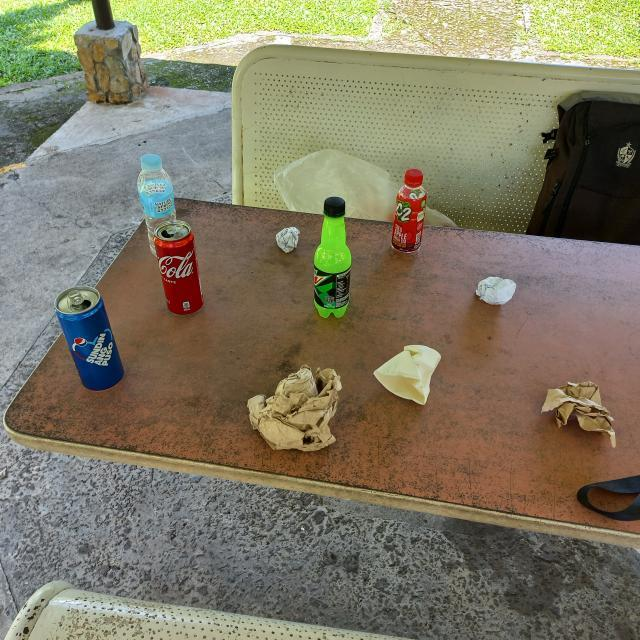recyclable waste: (237, 361, 351, 458), (51, 282, 130, 396), (537, 374, 625, 454), (148, 212, 210, 322), (308, 192, 356, 322), (132, 149, 184, 263), (366, 338, 446, 411), (388, 162, 431, 258), (470, 271, 518, 310), (270, 220, 304, 256)
